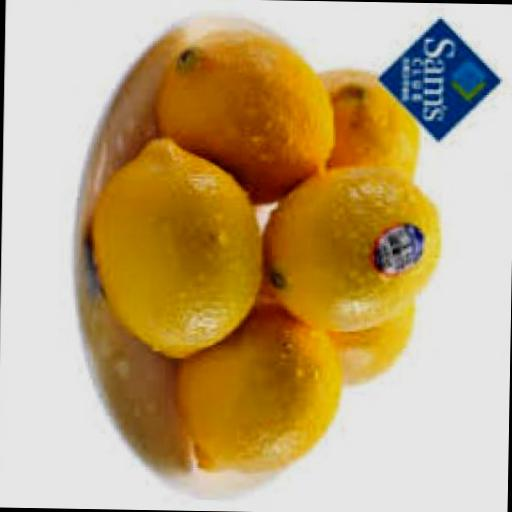biodegradable: (85, 135, 266, 360), (149, 30, 336, 203), (260, 161, 445, 333), (171, 297, 343, 475), (322, 68, 420, 185), (335, 295, 418, 387)
